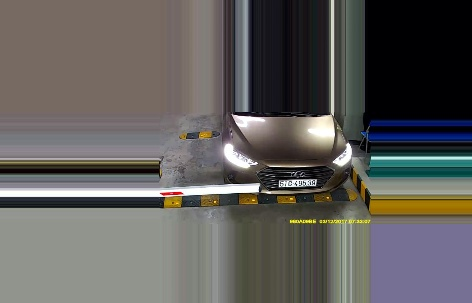plate: (277, 177, 318, 187)
